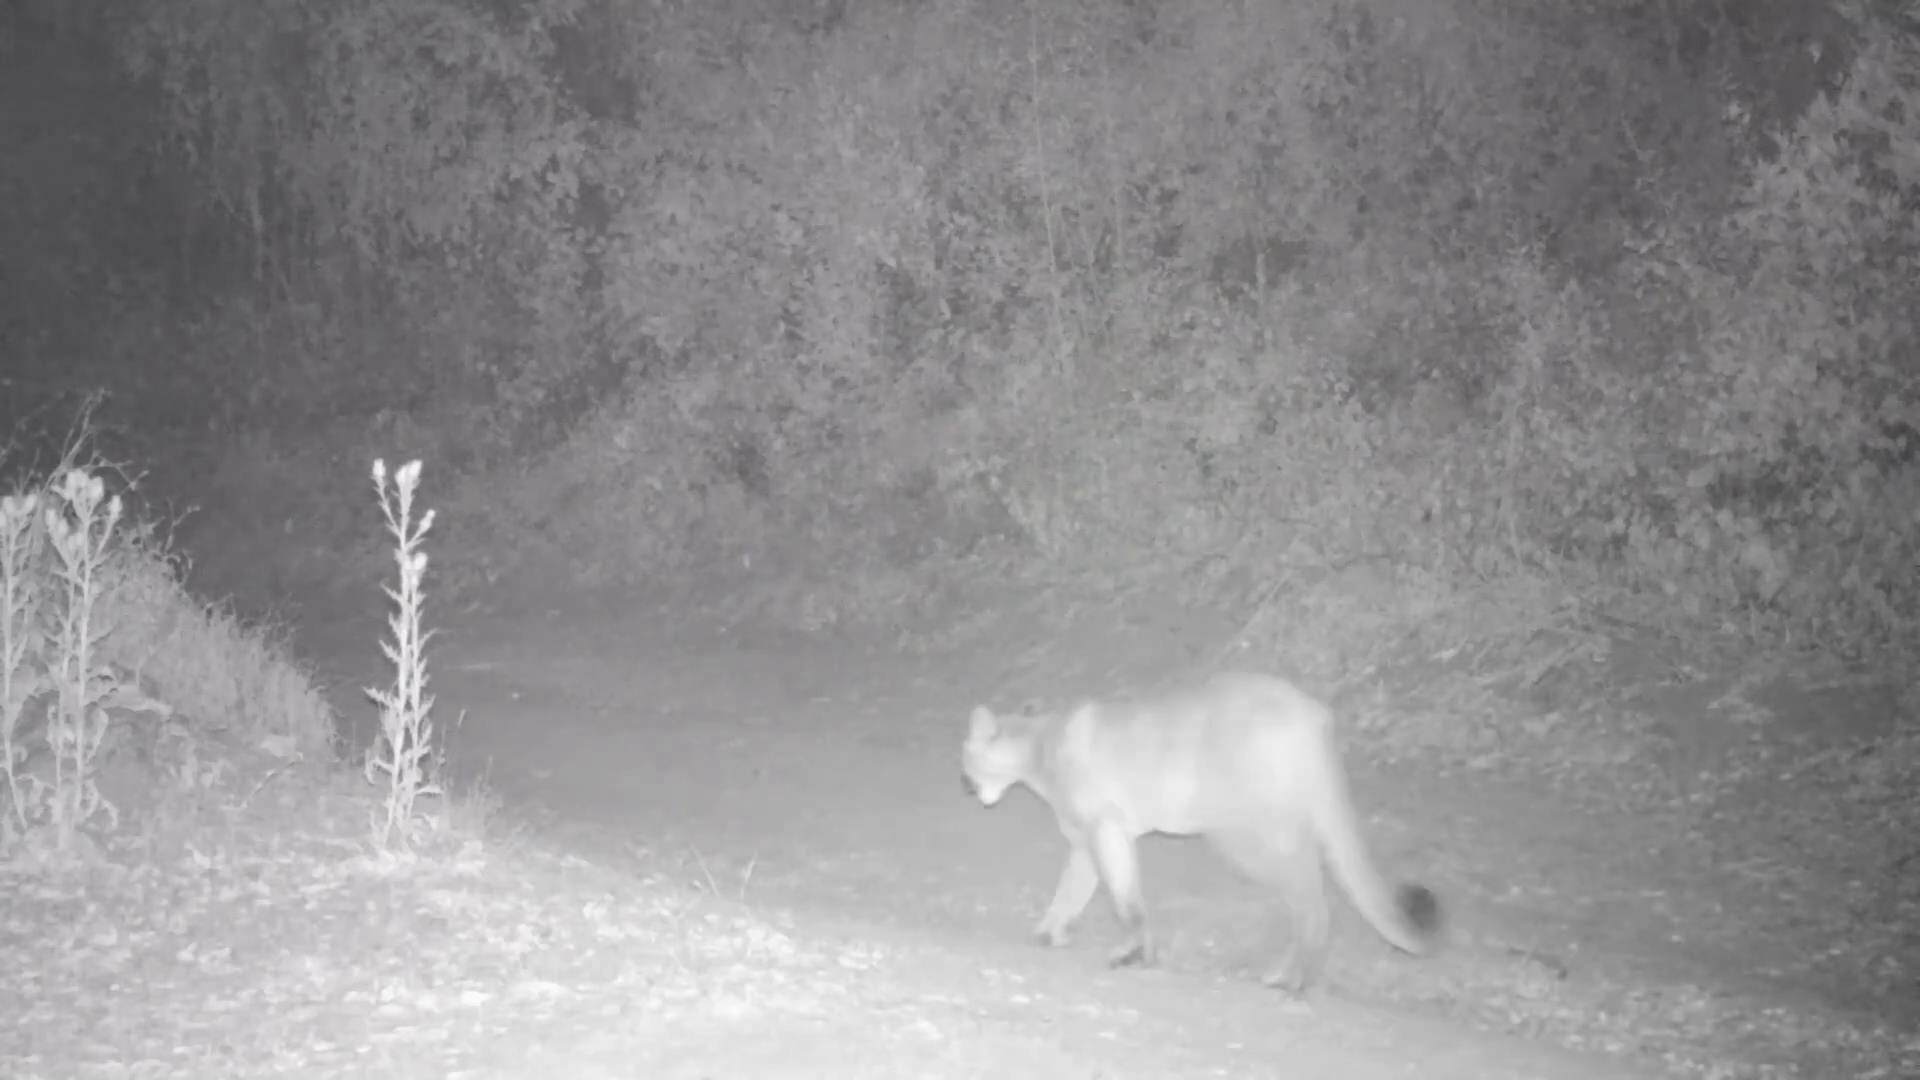Lion: (957, 670, 1440, 992)
